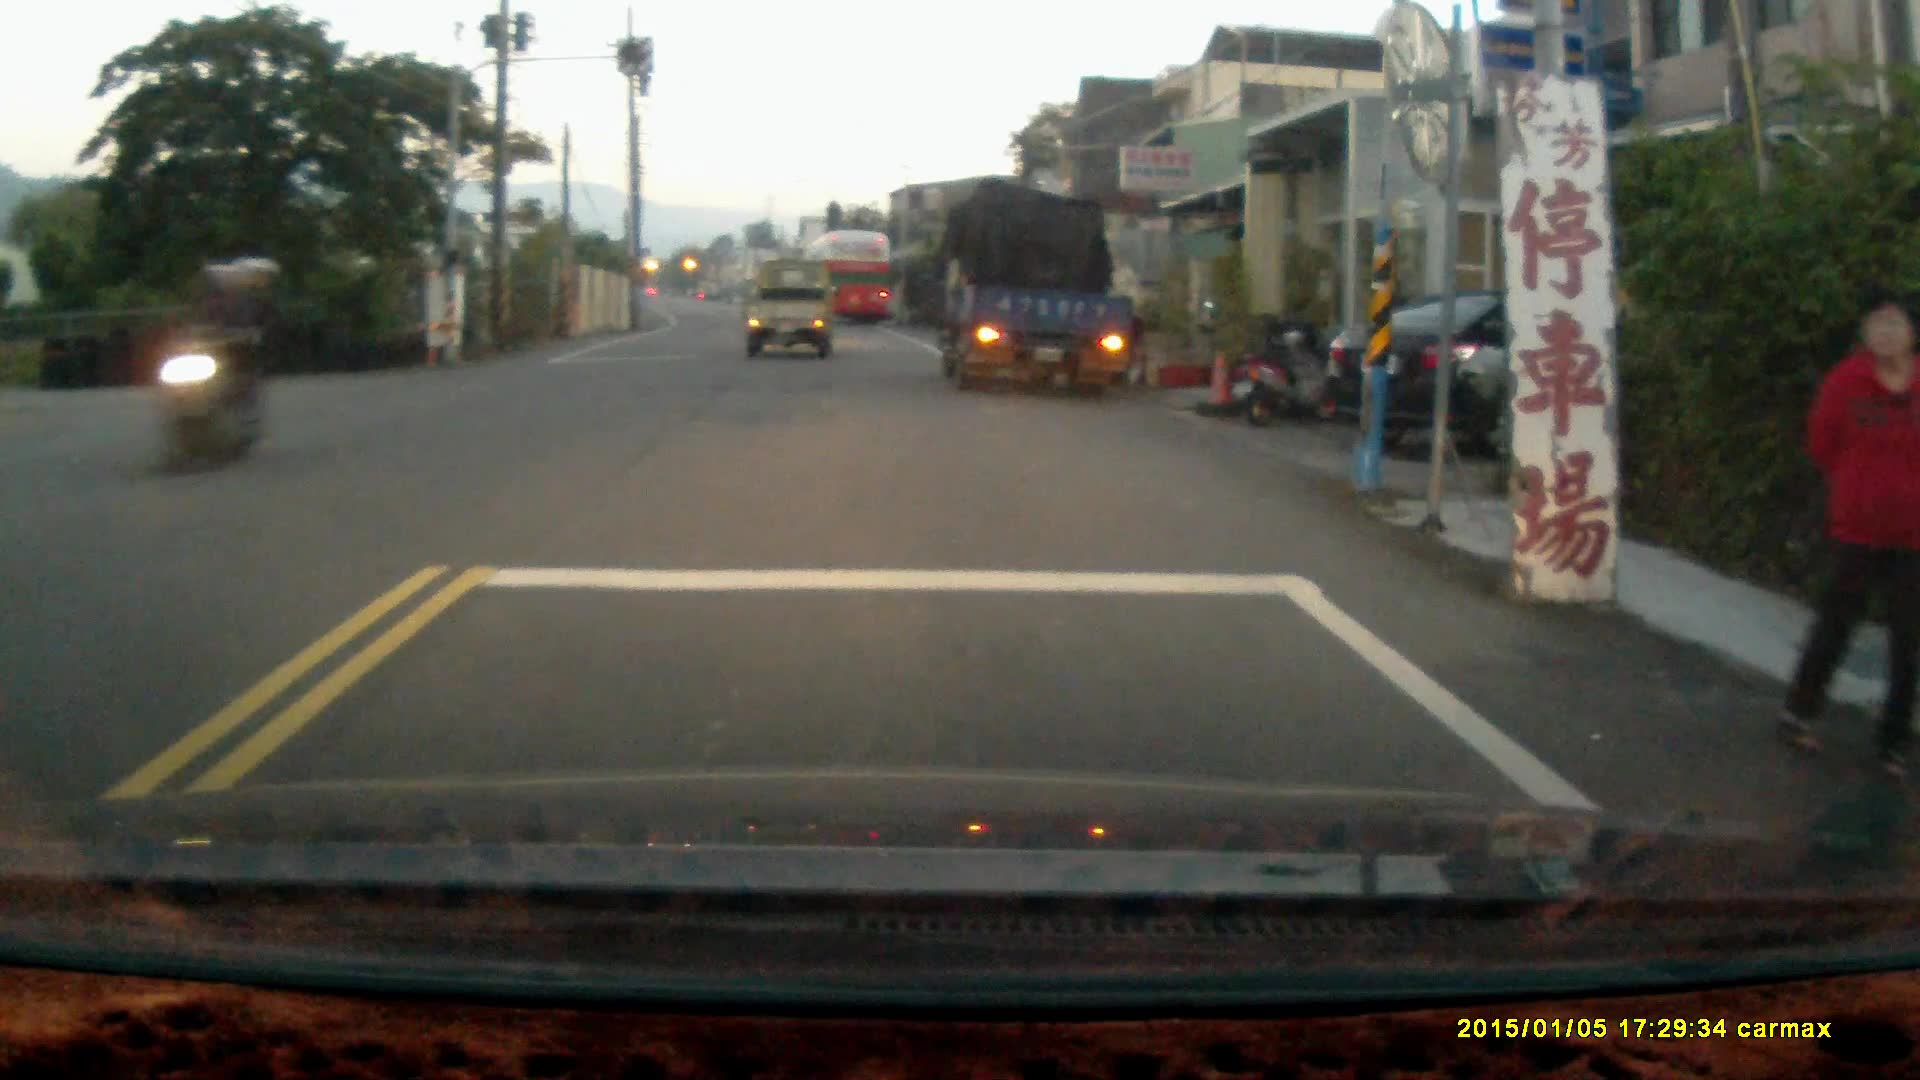pedestrian: (1768, 284, 1919, 783)
rider: (156, 251, 286, 476)
vehicle: (1317, 288, 1718, 467), (938, 186, 1137, 388), (802, 229, 899, 332), (742, 259, 834, 355)
